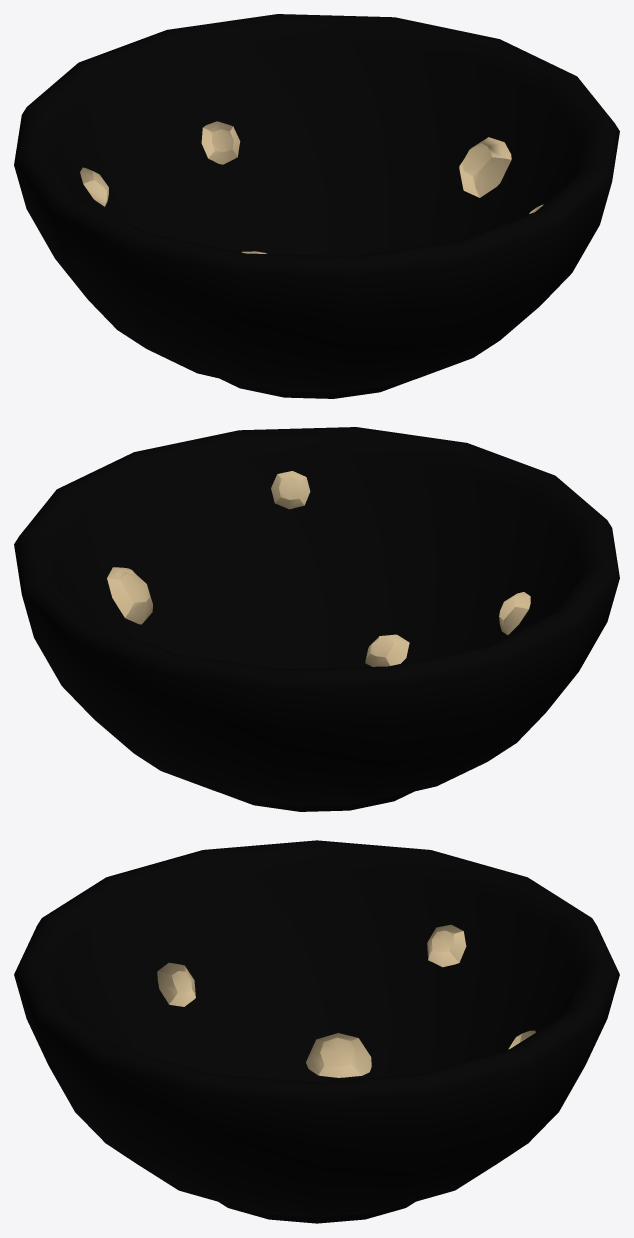
File: ASFTR_Bowl_Dirty.fbx
3 renders of one model, top to bottom at view 1: azimuth 30°, elevation 25°; view 2: azimuth 150°, elevation 25°; view 3: azimuth 270°, elevation 25°, orthographic.
Parts seen in each view (by area): view 1: ASFTR_Bowl_Dirty; view 2: ASFTR_Bowl_Dirty; view 3: ASFTR_Bowl_Dirty.
Part boxes in pixels (x1=…): ASFTR_Bowl_Dirty: x1=14, y1=14, x2=619, y2=398; ASFTR_Bowl_Dirty: x1=14, y1=427, x2=619, y2=811; ASFTR_Bowl_Dirty: x1=14, y1=840, x2=619, y2=1223.
Size of the model in its own units: 60.78 by 22.92 by 60.78.
